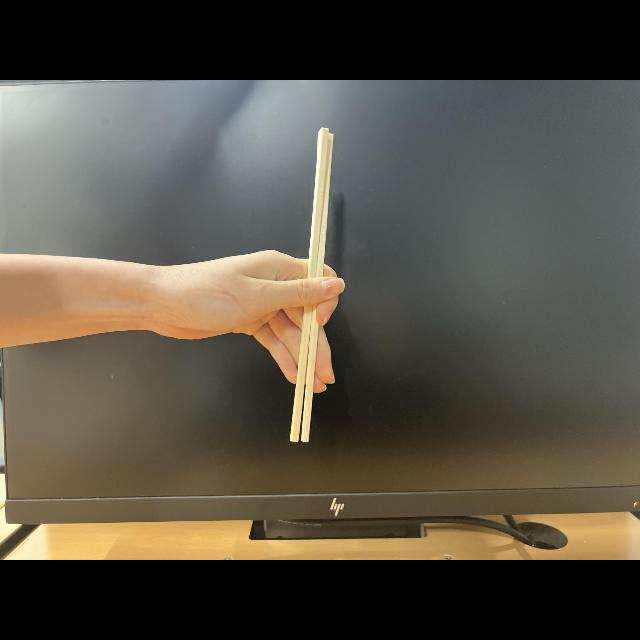stick: (284, 128, 344, 444)
